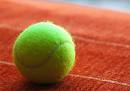tennis ball: (12, 21, 77, 86)
